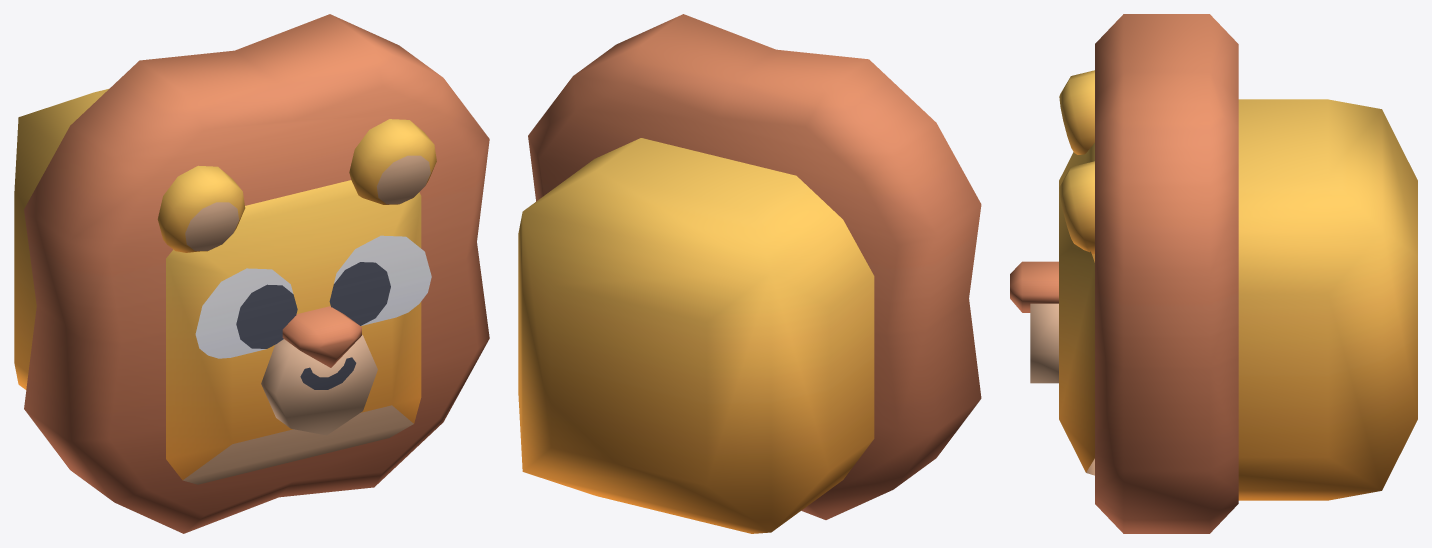
Rendered from cube_lion.glb.
3 views of the same model, side by side, from view 1: azimuth 30°, elevation 25°; view 2: azimuth 150°, elevation 25°; view 3: azimuth 270°, elevation 25° (orthographic). The views are drawn at different scales.
Parts seen in each view (by area): view 1: body; view 2: body; view 3: body.
Part boxes in pixels (box(x1,y1,x2,y2)): body: box(14, 14, 489, 533); body: box(518, 14, 981, 533); body: box(1010, 14, 1417, 533).
Bounding box in the file's own units: 1.65 × 1.65 × 1.42.
1 material, 1 textured.
